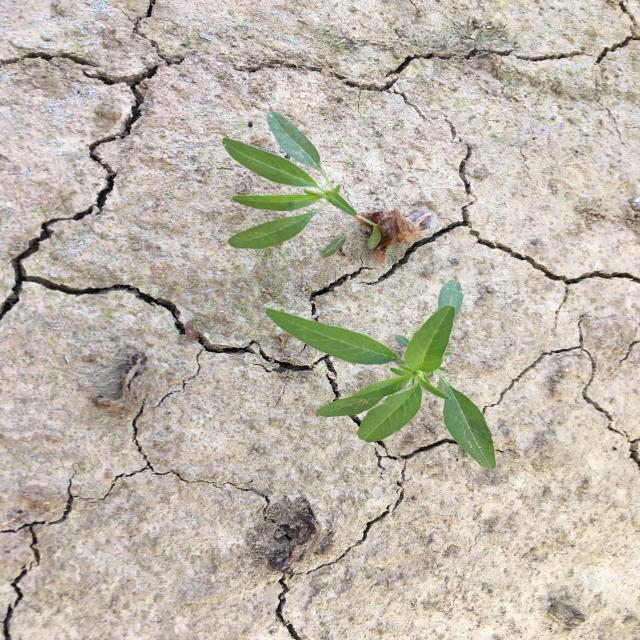Waterhemp: (264, 278, 498, 470), (221, 109, 383, 259)
